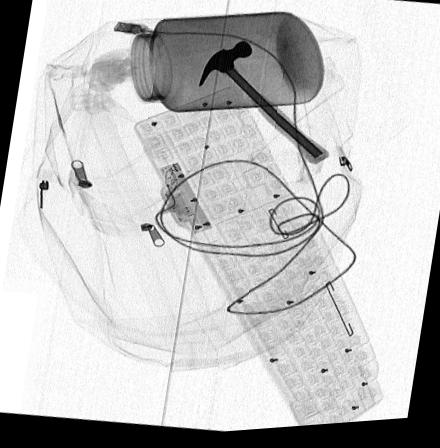Hammer: (197, 44, 328, 169)
